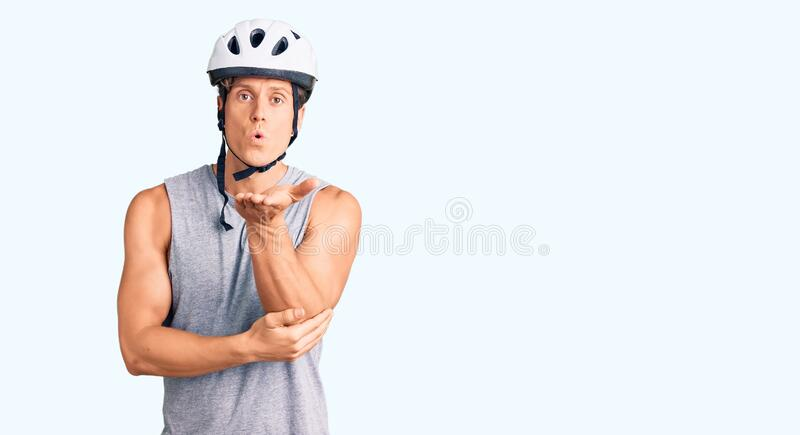helmet: (206, 18, 316, 170)
